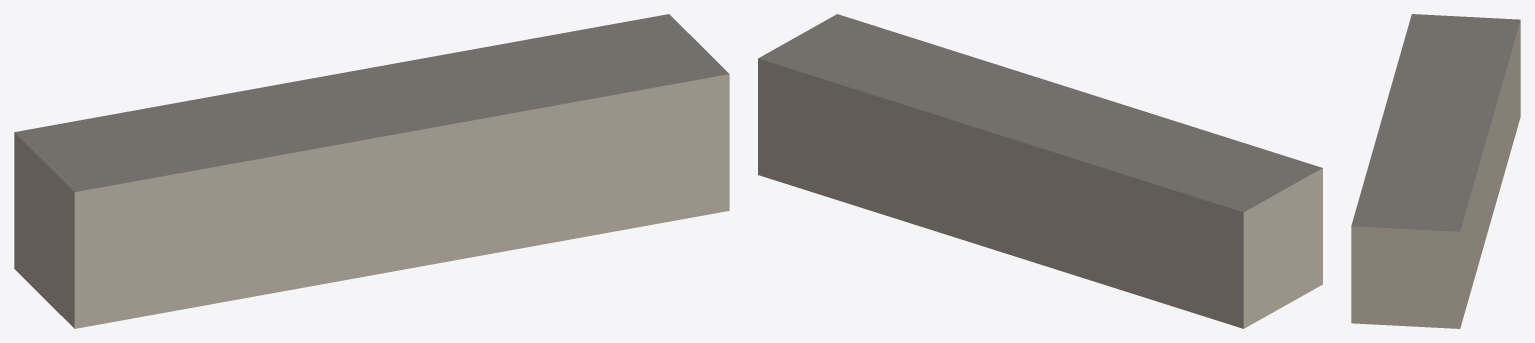
3 renders of one model, left to right at view 1: azimuth 30°, elevation 25°; view 2: azimuth 150°, elevation 25°; view 3: azimuth 270°, elevation 25°, orthographic. The views are drawn at different scales.
Visible parts, largest first — view 1: HP-w859488871; view 2: HP-w859488871; view 3: HP-w859488871.
Boxes of the visible parts, x1,y1,x2,y2 form: HP-w859488871: (14, 14, 729, 328); HP-w859488871: (758, 14, 1322, 328); HP-w859488871: (1351, 14, 1520, 328).
Size of the model in its own units: 86.57 by 18 by 28.46.
